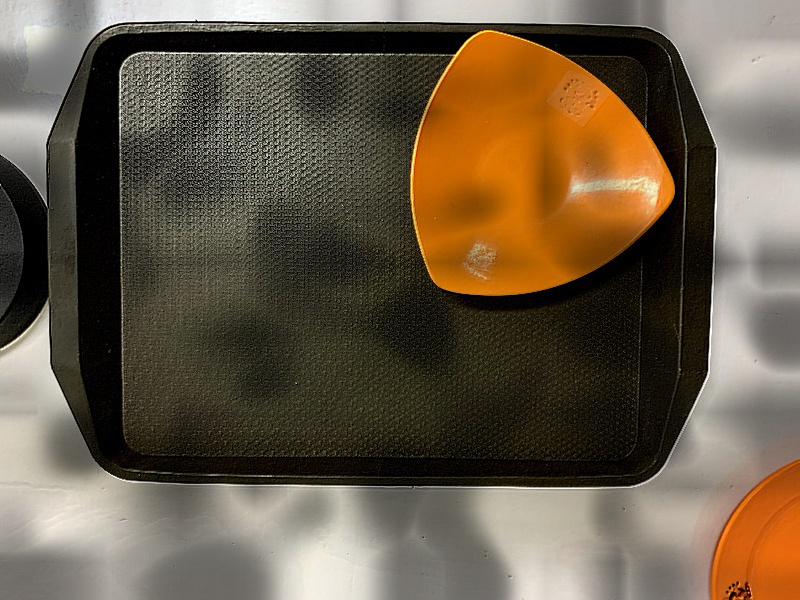dish11: (405, 27, 684, 304)
